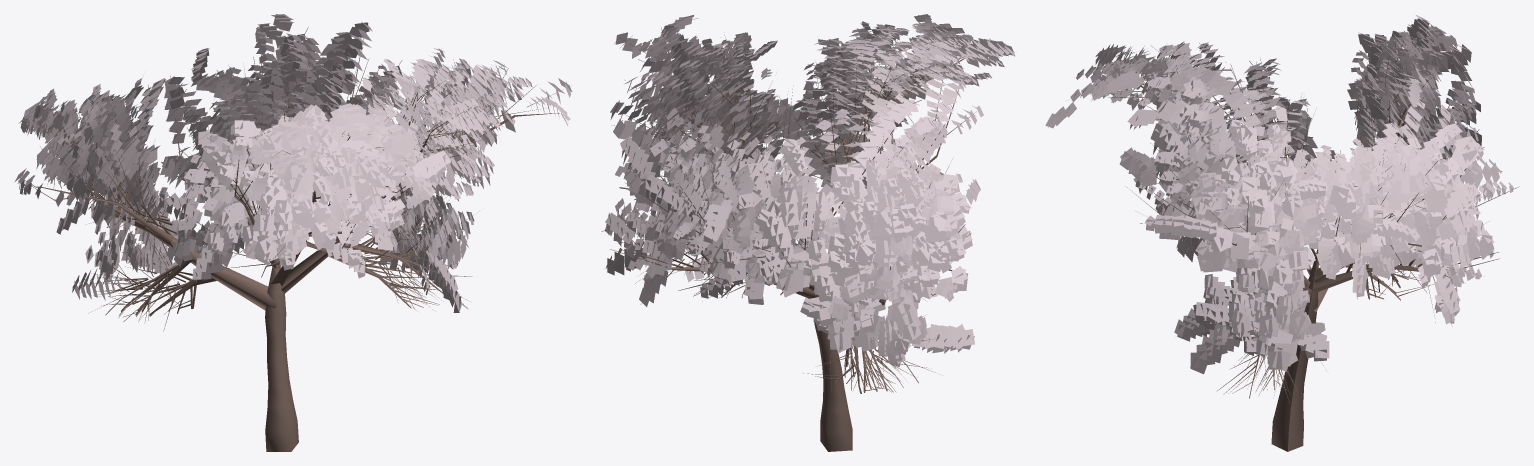
The model's file is sakura-natural-sweeping.glb.
3 renders of one model, left to right at view 1: azimuth 30°, elevation 25°; view 2: azimuth 150°, elevation 25°; view 3: azimuth 270°, elevation 25°, orthographic.
Bounding box in the file's own units: 11.67 × 9.2 × 10.5.
